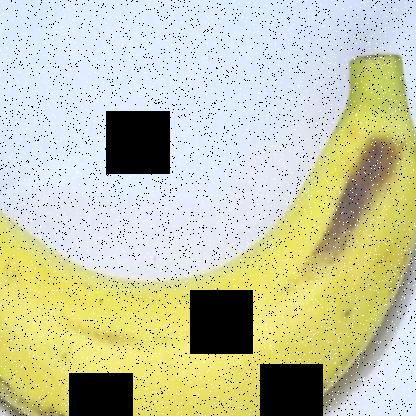freshripe: (0, 44, 415, 414)
